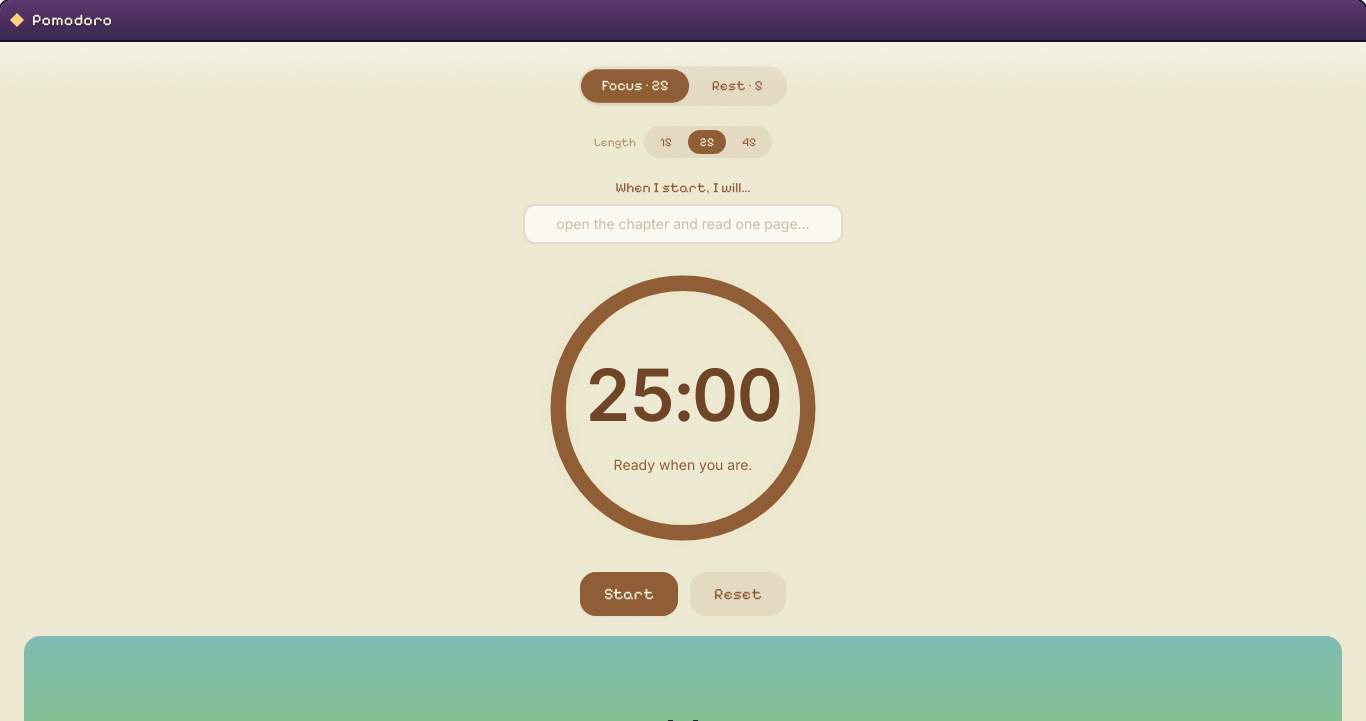
Scenario: PomodoroTimer (timestamp-based countdown) › does not desync when the tab is backgrounded (catches up on wake)
Click the button "Start".
click(629, 594)  # box [580,572,678,616]
Wait 600000 ms
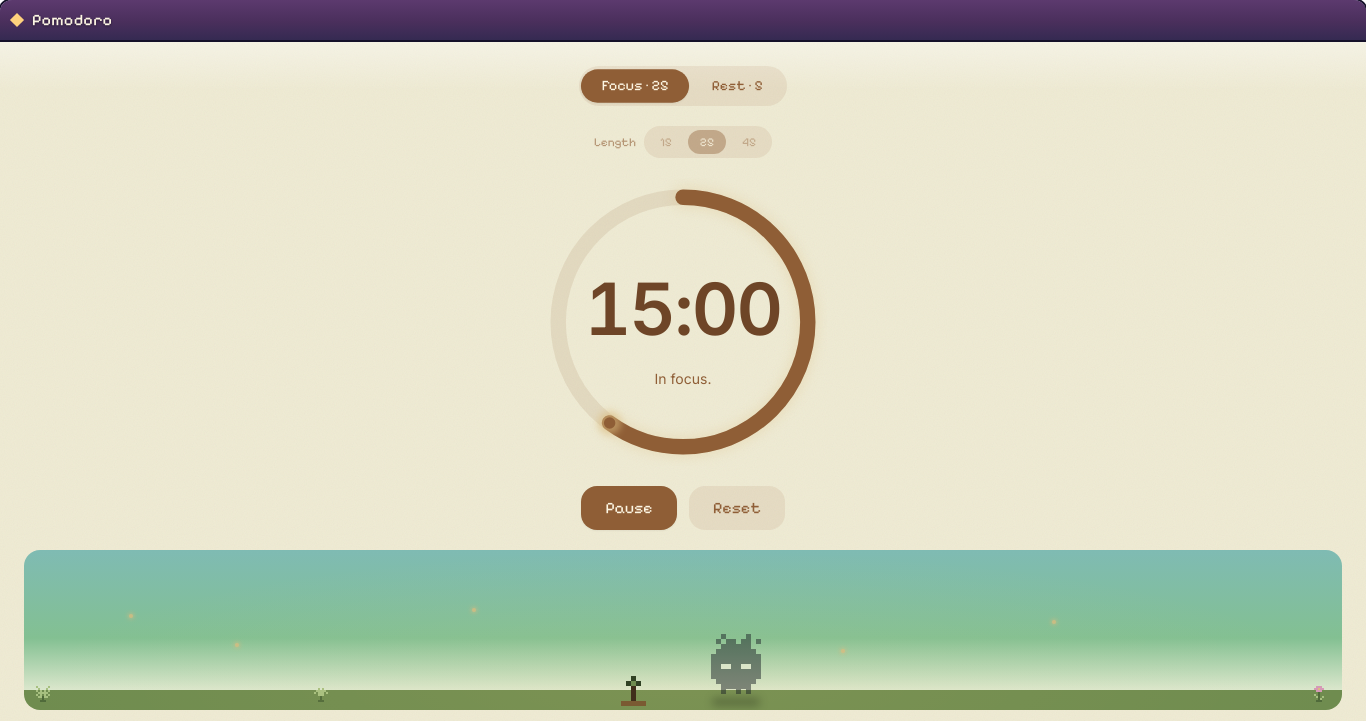
expect the text "15:00" is shown: met, box [585,255,781,363]
